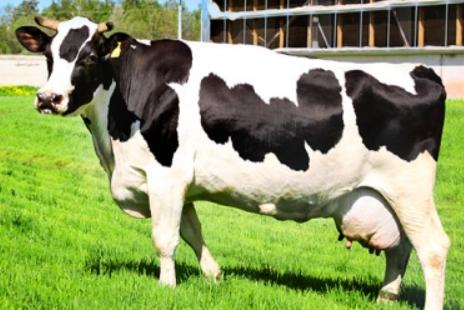cow: (14, 14, 452, 310)
